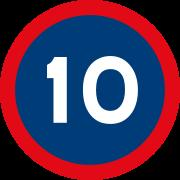Speed Limit -10-: (20, 25, 162, 150)
